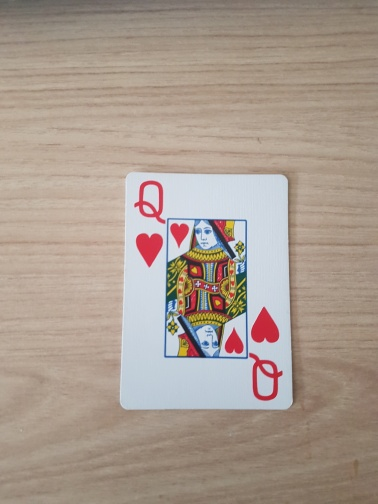queen: (119, 172, 292, 410)
